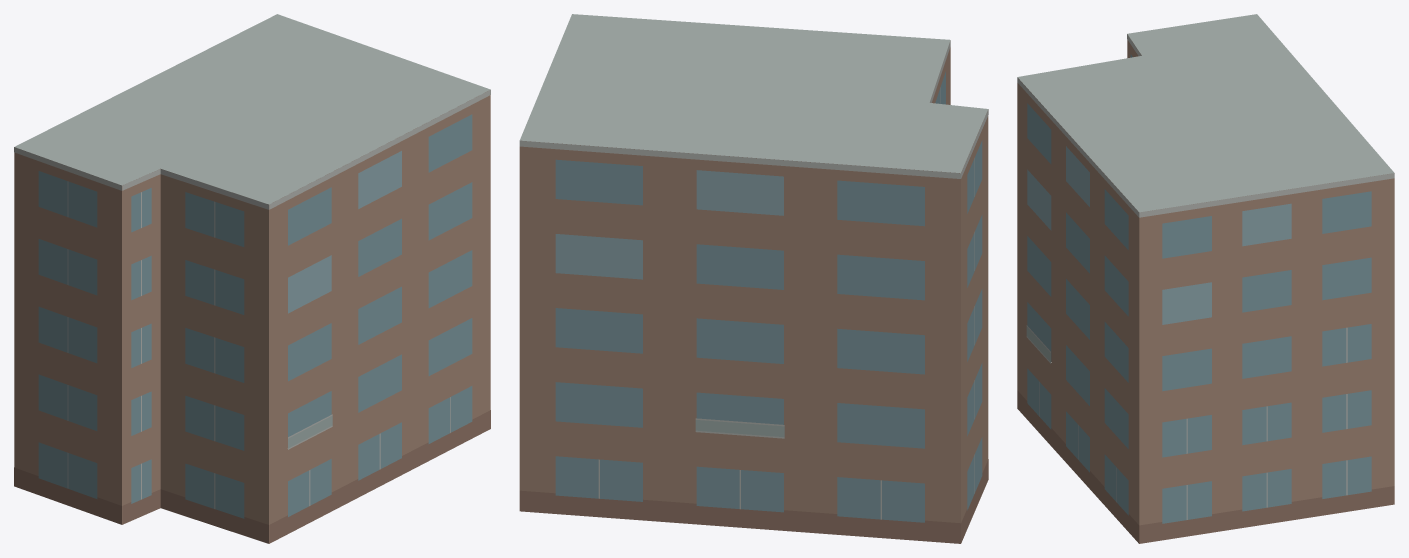
Rendered from survey-upis-32945645.glb.
3 renders of one model, left to right at view 1: azimuth 30°, elevation 25°; view 2: azimuth 150°, elevation 25°; view 3: azimuth 270°, elevation 25°, orthographic. The views are drawn at different scales.
Visible parts, largest first — view 1: survey-upis-32945645.tmp; view 2: survey-upis-32945645.tmp; view 3: survey-upis-32945645.tmp.
Boxes of the visible parts, x1,y1,x2,y2 form: survey-upis-32945645.tmp: [14, 14, 490, 543]; survey-upis-32945645.tmp: [519, 14, 988, 543]; survey-upis-32945645.tmp: [1017, 14, 1394, 543].
Size of the model in its own units: 19.65 by 15.3 by 15.8.
